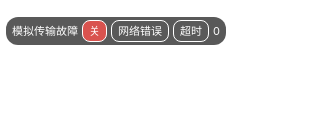
Test case: the on-screen switch › three buttons set the mode of this page; the pressed one is marked; the hit counter is shown
Later steps or results of the test are not shown.
expect the text "模拟传输故障" is shown: met, box [12,22,78,39]
Click the button with test id "qa-fault-network_error": (140, 31) [111,20,169,42]
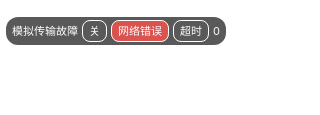
expect the button with test id "qa-fault-network_error" is pressed: met, box [111,20,169,42]
Click the button with test id "qa-fault-timeout": (191, 31) [173,20,209,42]
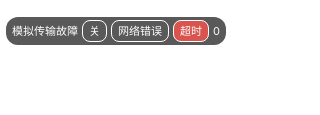
Click the button with test id "qa-fault-off": (94, 31) [82,20,107,42]
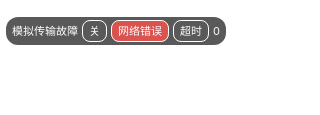
expect the element with test id "qa-transport-fault" has attribute data-mode="network_error": met, box [6,16,226,45]
